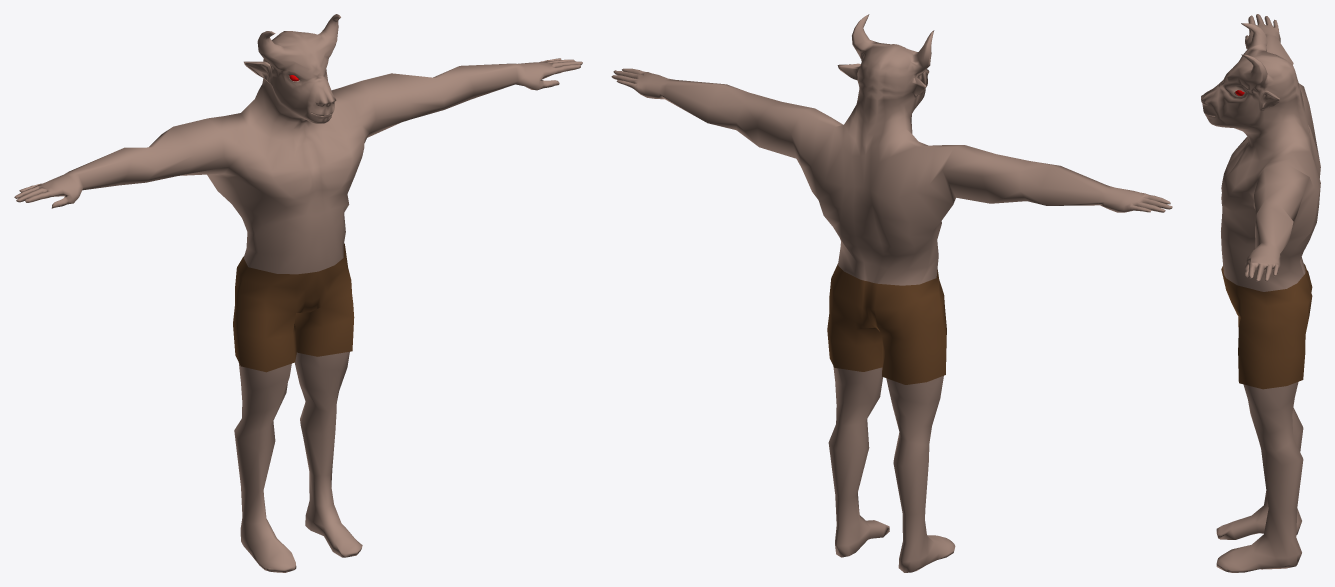
Rendered from minotaur_test2.fbx.
The picture shows the model from 3 angles, left to right: view 1: azimuth 30°, elevation 25°; view 2: azimuth 150°, elevation 25°; view 3: azimuth 270°, elevation 25°; orthographic projection. The views are drawn at different scales.
Visible parts, largest first — view 1: minotaur_mesh, pants; view 2: minotaur_mesh, pants; view 3: minotaur_mesh, pants.
Part boxes in pixels (box(x1,y1,x2,y2)): minotaur_mesh: box(14, 14, 582, 572); pants: box(233, 243, 354, 372); minotaur_mesh: box(611, 14, 1172, 572); pants: box(827, 264, 946, 384); minotaur_mesh: box(1201, 14, 1320, 572); pants: box(1221, 264, 1312, 389).
Size of the model in its own units: 27.87 by 24.97 by 5.29.
